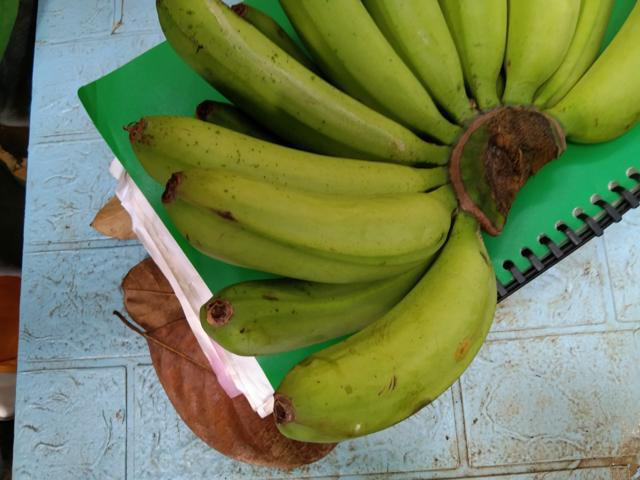freshunripe: (269, 241, 515, 444), (153, 165, 454, 280), (125, 107, 447, 206), (282, 0, 472, 144), (195, 273, 395, 353), (490, 0, 586, 130), (557, 3, 639, 145)
unripe: (149, 0, 427, 176)
